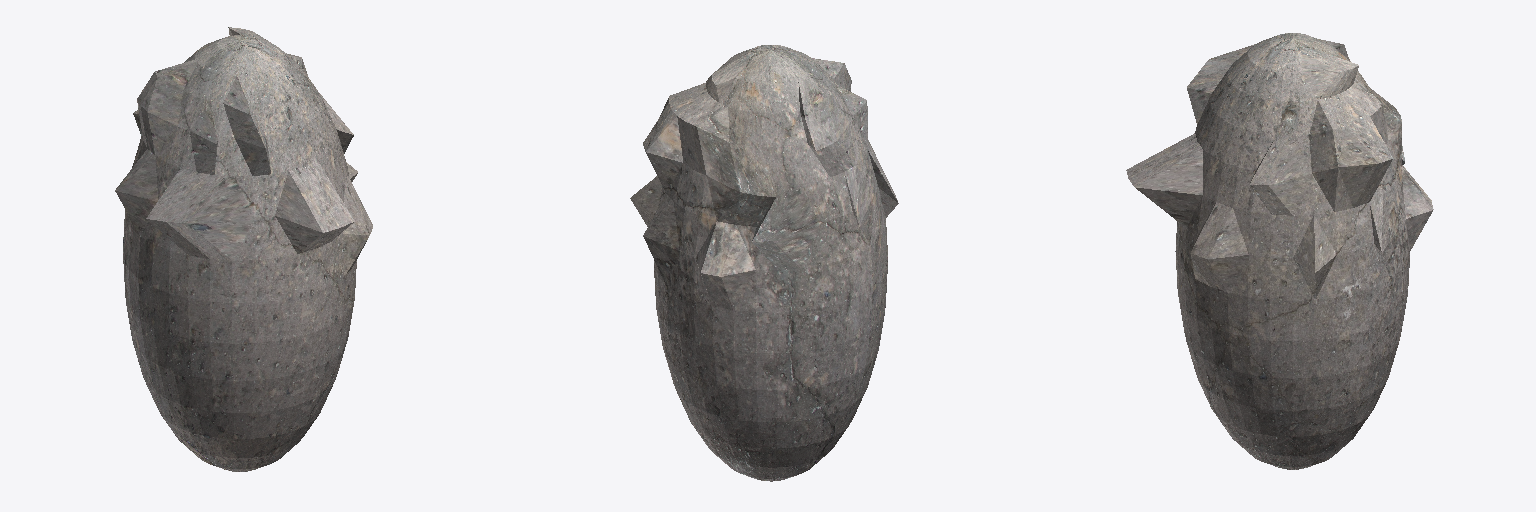
3 views of the same model, side by side, from view 1: azimuth 30°, elevation 25°; view 2: azimuth 150°, elevation 25°; view 3: azimuth 270°, elevation 25° (orthographic).
Visible parts, largest first — view 1: Sphere; view 2: Sphere; view 3: Sphere.
Boxes of the visible parts, x1,y1,x2,y2 form: Sphere: [115, 27, 372, 471]; Sphere: [630, 45, 898, 481]; Sphere: [1126, 33, 1433, 469].
Bounding box in the file's own units: 2.37 × 4 × 2.62.
1 materials, 1 textured.